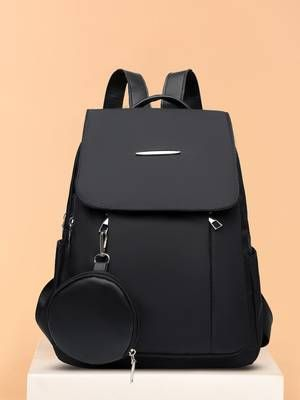cuero: (34, 68, 273, 370)
